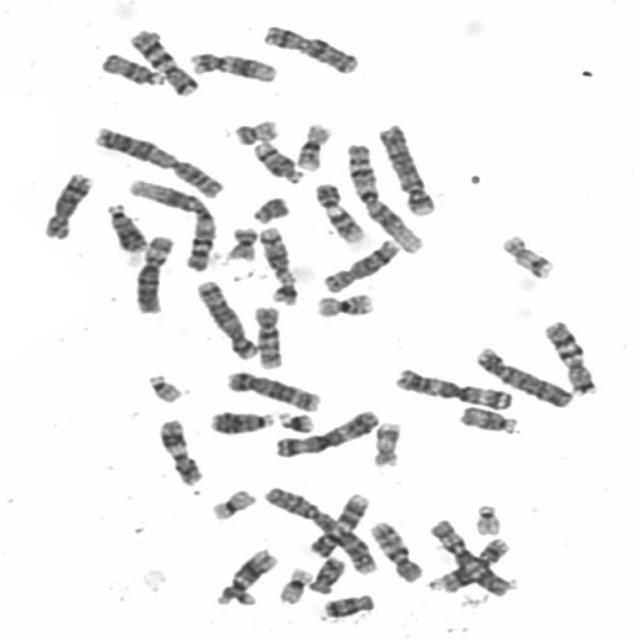A1: (339, 137, 426, 254), (122, 172, 219, 273)
A2: (259, 480, 381, 576), (87, 120, 226, 200)
A3: (268, 402, 383, 458), (388, 362, 516, 411)
B4: (469, 340, 575, 409), (372, 118, 437, 216)
B5: (189, 274, 260, 360), (219, 364, 323, 413)
C10: (364, 514, 426, 584), (247, 298, 286, 371)
C11: (423, 533, 513, 593), (153, 412, 206, 487)
C12: (210, 543, 279, 606), (183, 45, 280, 83)
C6: (424, 514, 519, 596), (128, 229, 178, 315)
C7: (123, 22, 202, 96), (538, 314, 600, 396)
C8: (316, 233, 402, 294), (36, 166, 96, 241)
C9: (304, 487, 373, 559), (308, 176, 368, 245)
D13: (100, 197, 150, 253), (203, 404, 277, 436)
D14: (248, 134, 306, 185), (252, 228, 298, 285)
D15: (94, 47, 168, 87), (453, 400, 522, 436)
E16: (290, 117, 336, 172), (309, 286, 377, 318)
E17: (496, 228, 556, 280), (366, 415, 403, 469)
E18: (316, 587, 377, 620), (302, 551, 346, 595)
F19: (204, 483, 258, 522), (272, 562, 314, 606)
F20: (228, 112, 282, 146), (221, 220, 260, 262)
G21: (266, 270, 303, 310), (272, 405, 317, 435)
G22: (140, 368, 184, 404), (468, 498, 504, 537)
X: (256, 18, 362, 76)
Y: (246, 190, 292, 224)
